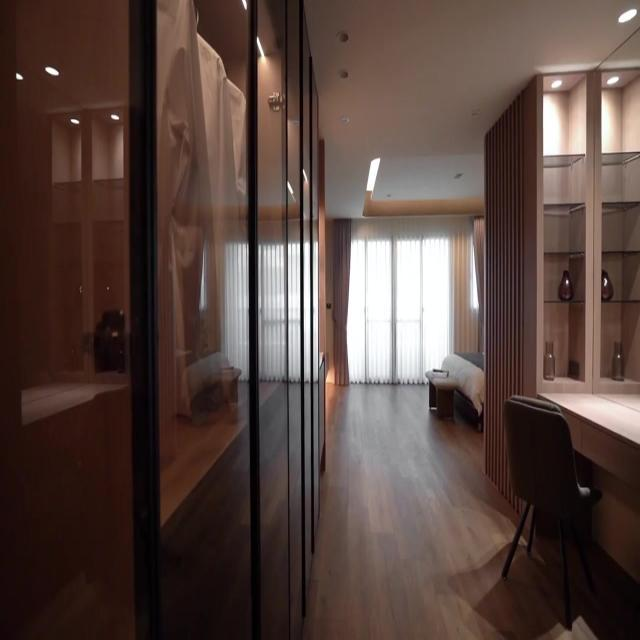door: (132, 0, 318, 639)
obstacle: (501, 394, 602, 632), (441, 351, 484, 433)
